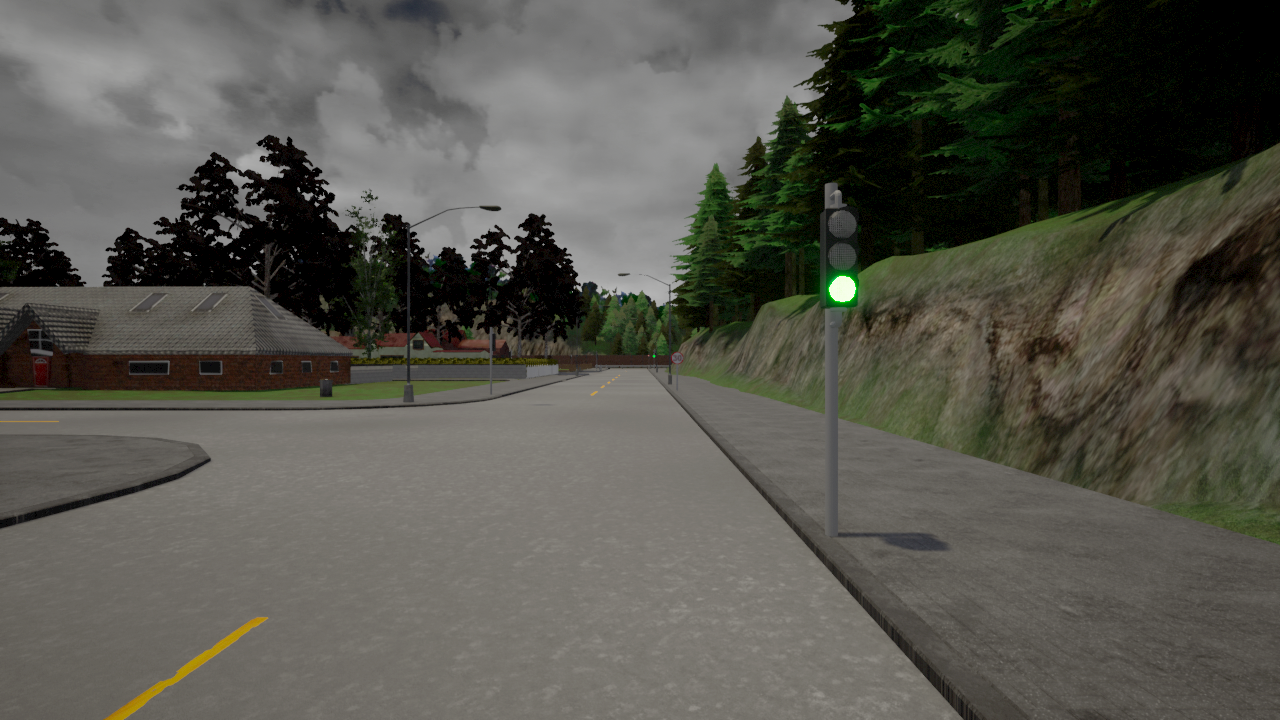green: (817, 207, 862, 310)
